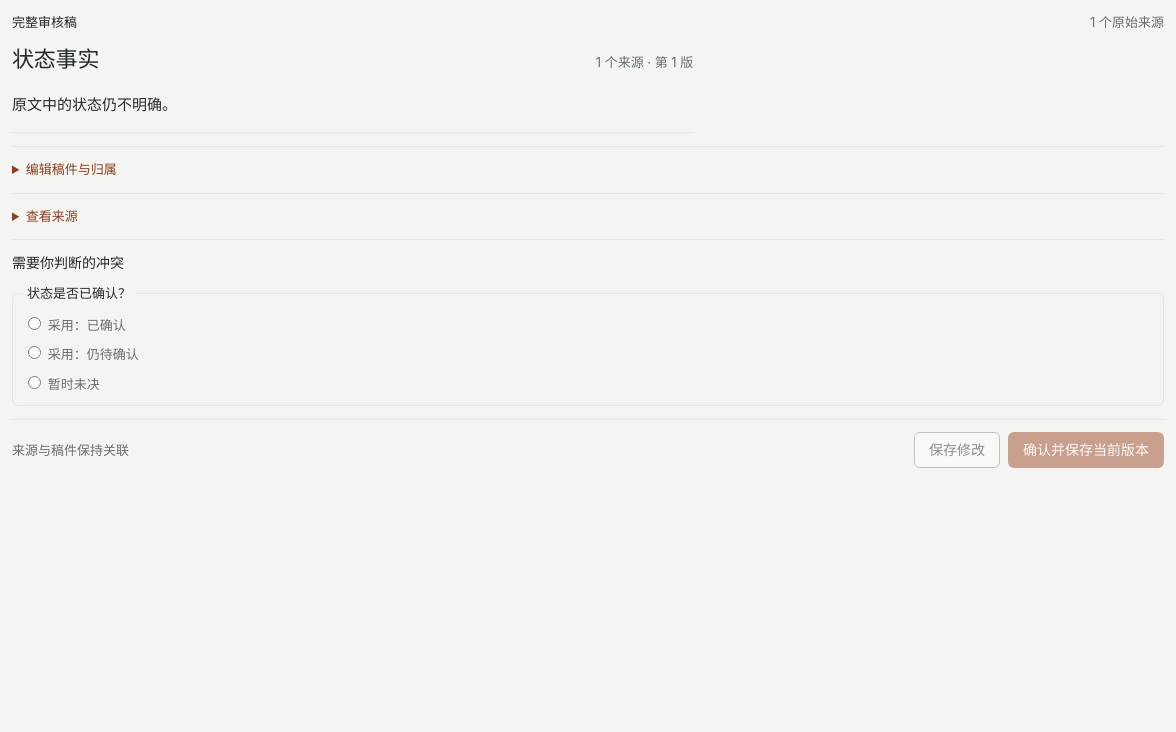
Test case: previews how an unresolved conflict will be recorded in the confirmed page
Click the radio button labelled "暂时未决" at [34, 383], box [28,376,41,389]
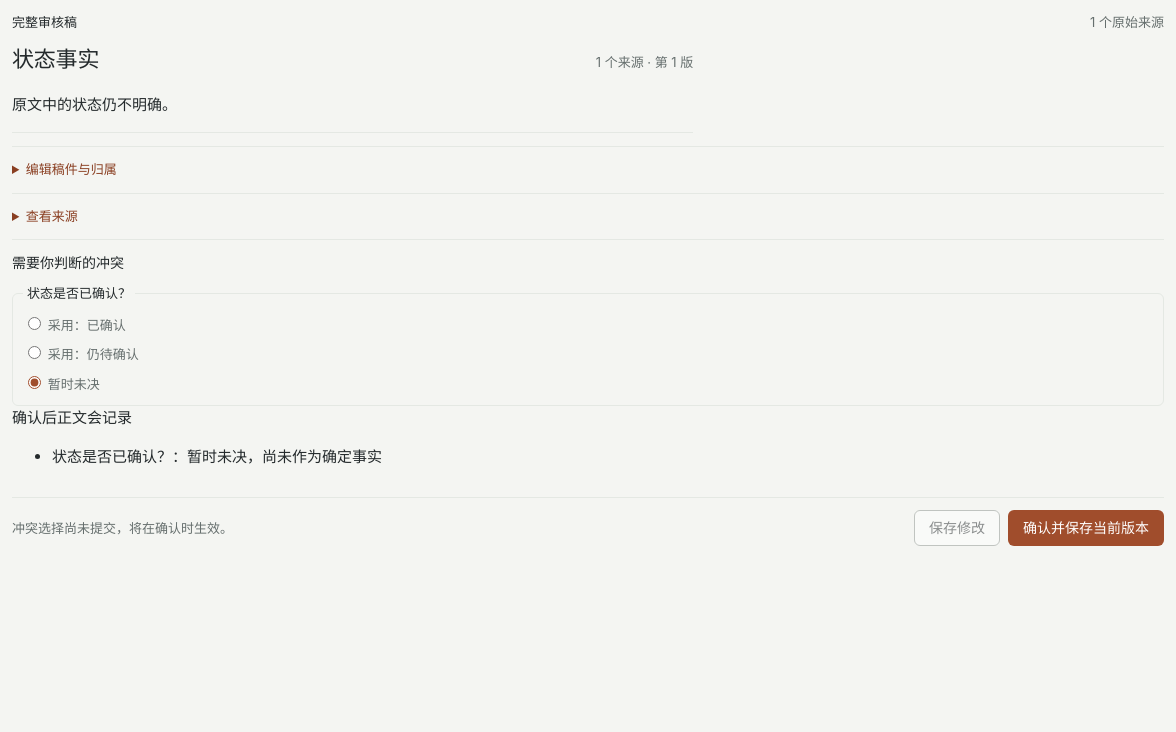
Expected: the element named "确认结果预览" shows "状态是否已确认？：暂时未决", [12,408,382,466]
